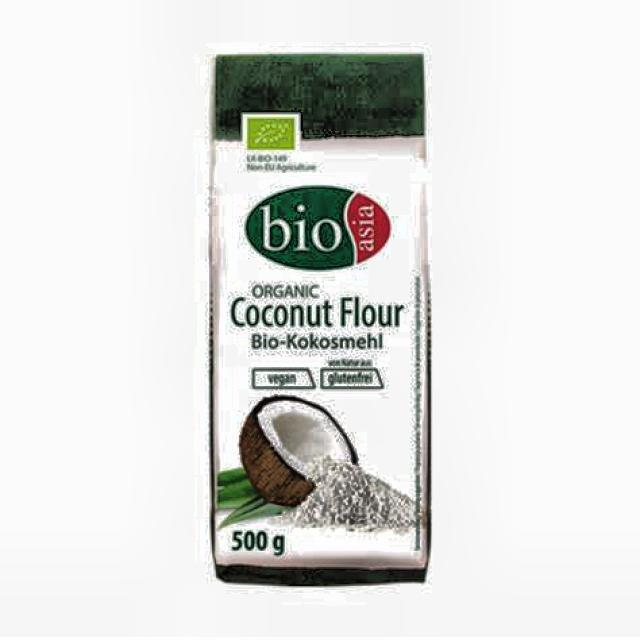cardboard: (208, 51, 431, 585)
